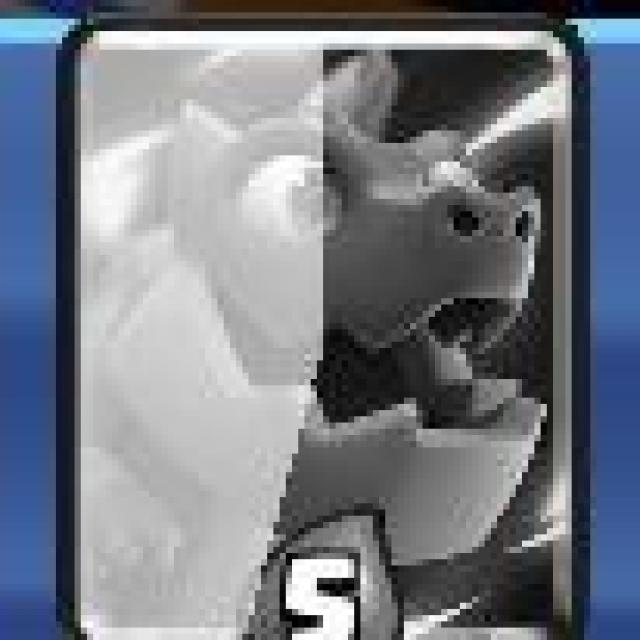Electro_Dragon: (54, 11, 590, 640)
